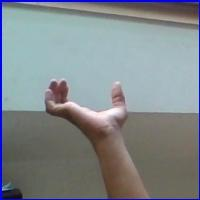B: (40, 74, 137, 148)
